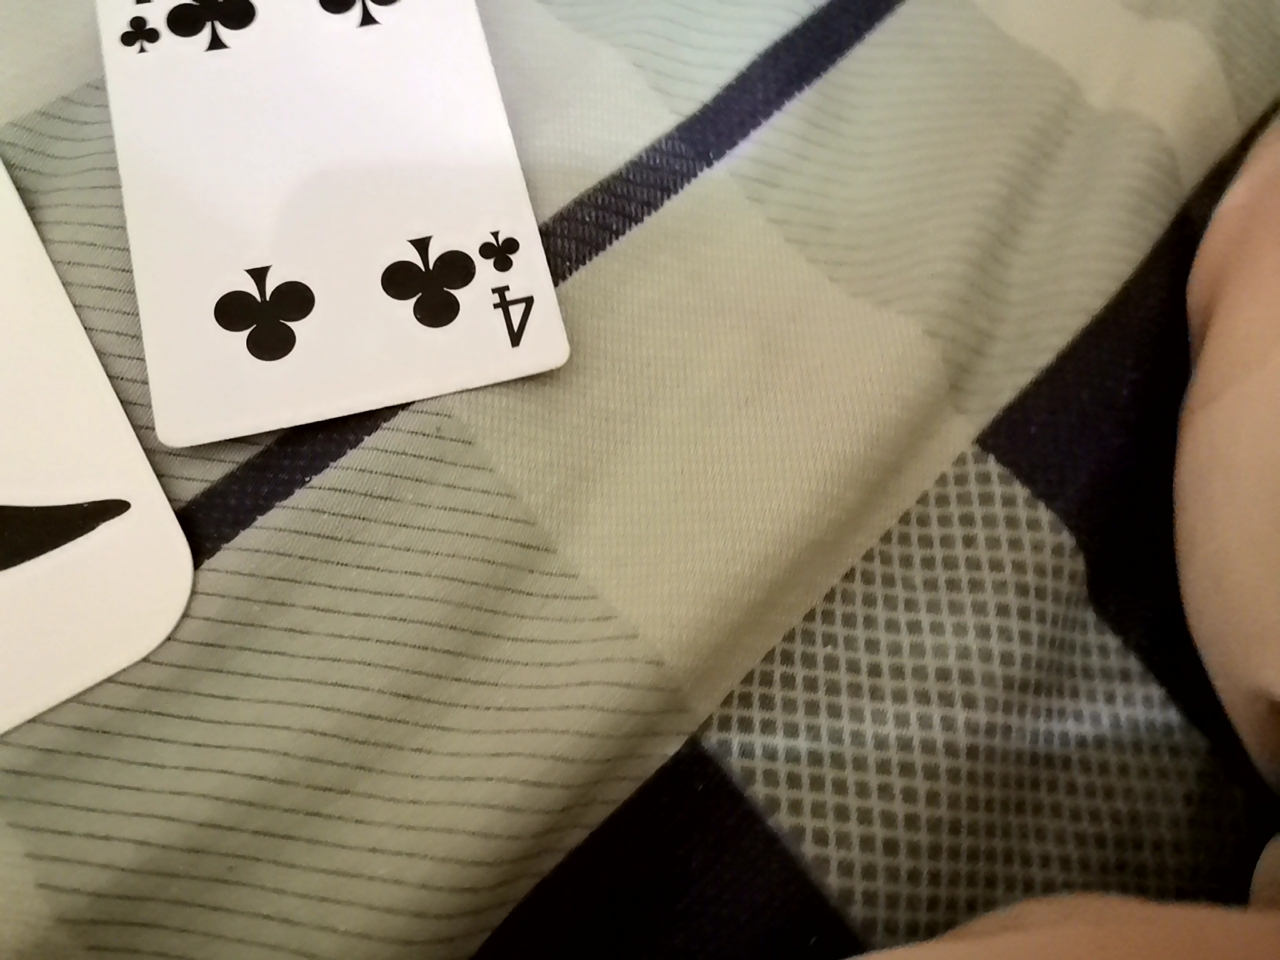mh 4: (92, 16, 577, 541)
